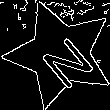N_NW: (27, 21, 92, 87)
